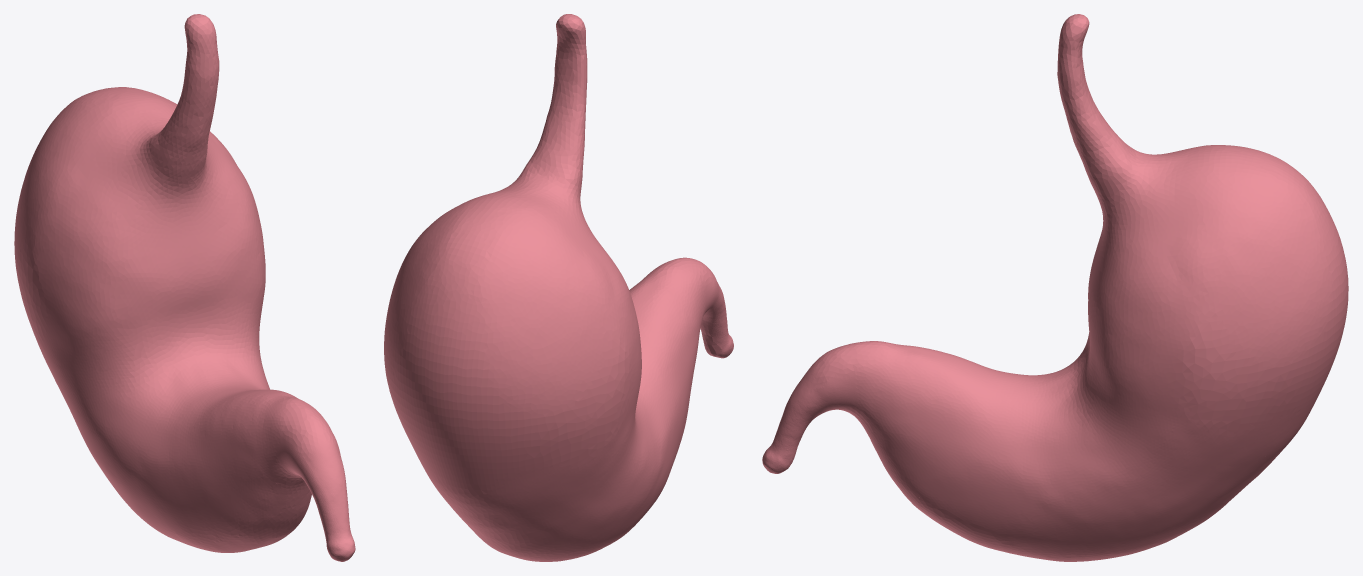
The model's file is Estomago.fbx.
3 views of the same model, side by side, from view 1: azimuth 30°, elevation 25°; view 2: azimuth 150°, elevation 25°; view 3: azimuth 270°, elevation 25° (orthographic). The views are drawn at different scales.
Parts seen in each view (by area): view 1: LAMBUNG; view 2: LAMBUNG; view 3: LAMBUNG.
Part boxes in pixels (bbox=[...]): LAMBUNG: bbox=[14, 14, 355, 561]; LAMBUNG: bbox=[384, 14, 733, 561]; LAMBUNG: bbox=[762, 14, 1348, 561].
Size of the model in its own units: 73.08 by 166 by 164.
